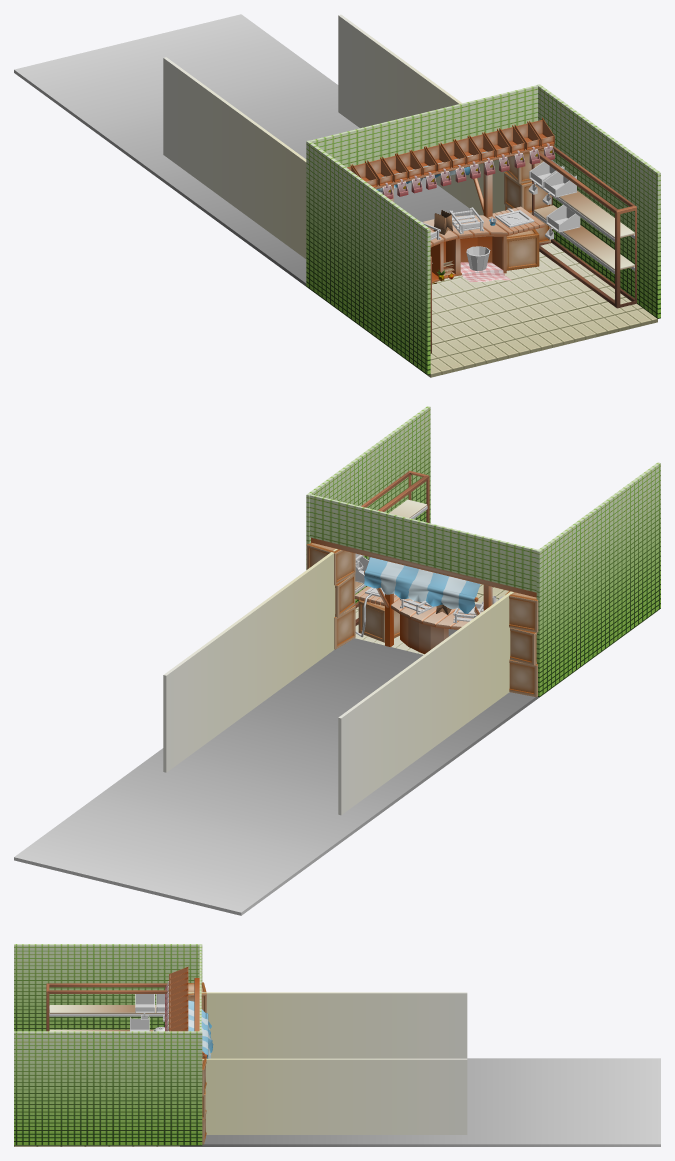
Rendered from FreshFruits (1).fbx.
3 renders of one model, top to bottom at view 1: azimuth 30°, elevation 25°; view 2: azimuth 150°, elevation 25°; view 3: azimuth 270°, elevation 25°, orthographic. The views are drawn at different scales.
Visible parts, largest first — view 1: Cube.027, Cube.001, Zemin, Cube.005, Cube, Cube.004, Cube.008, RafAnaStrüktür.001, tezgah altı, KutuArkaSağ, Masa üstü tahta, Raf.003 (+5 smaller); view 2: Cube.027, Cube.001, Cube.005, Cube.004, Cube.008, Cube, Çatıörtü, KutuArkaSol, KutuArkaSağ, Masa üstü tahta, Cube.002, tezgah altı (+3 smaller); view 3: Cube, Cube.027, Cube.004, Cube.005, Cube.001, RafAnaStrüktür, Raf, Çatıörtü, KasaPlane.004, KutuArkaSağ, Yatay raf çunuk, Zemin (+1 smaller).
Part boxes in pixels (box(x1,y1,x2,y2)): Cube.027: box(14, 14, 475, 298); Cube.001: box(306, 140, 430, 375); Zemin: box(325, 243, 657, 377); Cube.005: box(163, 57, 306, 258); Cube: box(537, 84, 660, 318); Cube.004: box(338, 14, 505, 215); Cube.008: box(310, 85, 537, 167); RafAnaStrüktür.001: box(531, 146, 636, 308); tezgah altı: box(430, 235, 506, 283); KutuArkaSağ: box(504, 148, 551, 243); Masa üstü tahta: box(423, 206, 544, 247); Raf.003: box(534, 205, 634, 270); Cube.027: box(14, 638, 550, 915); Cube.001: box(536, 462, 660, 697); Cube.005: box(338, 591, 513, 815); Cube.004: box(163, 549, 337, 772); Cube.008: box(310, 494, 537, 592); Cube: box(306, 406, 430, 603); Çatıörtü: box(364, 557, 480, 613); KutuArkaSol: box(505, 591, 538, 697); KutuArkaSağ: box(306, 542, 355, 649); Masa üstü tahta: box(354, 586, 481, 629); Cube.002: box(311, 537, 536, 597); tezgah altı: box(400, 614, 448, 654); Cube: box(14, 1031, 202, 1145); Cube.027: box(180, 1058, 660, 1146); Cube.004: box(202, 1058, 467, 1134); Cube.005: box(188, 992, 467, 1058); Cube.001: box(14, 944, 202, 1031); RafAnaStrüktür: box(46, 983, 168, 1031); Raf: box(49, 1005, 168, 1013); Çatıörtü: box(188, 1000, 213, 1058); KasaPlane.004: box(135, 994, 154, 1012); KutuArkaSağ: box(202, 1058, 206, 1144); Yatay raf çunuk: box(49, 1006, 164, 1016); Zemin: box(14, 1145, 179, 1146).
Bounding box in the file's own units: 7.56 × 4.6 × 23.36.
Materials: 1 (1 with a texture image).
